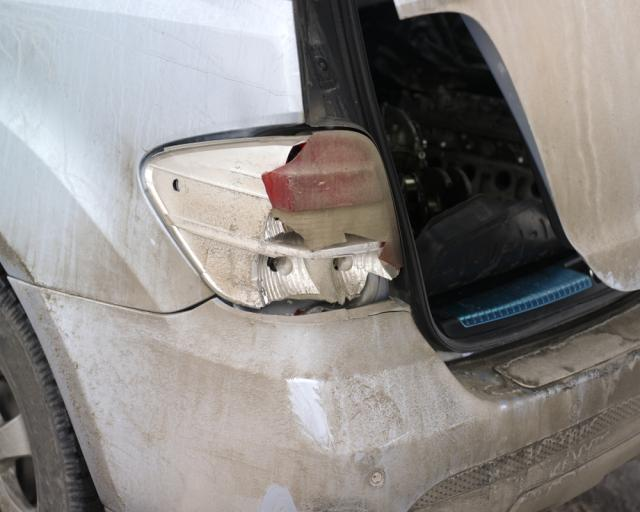lamp broken: (144, 132, 400, 315)
